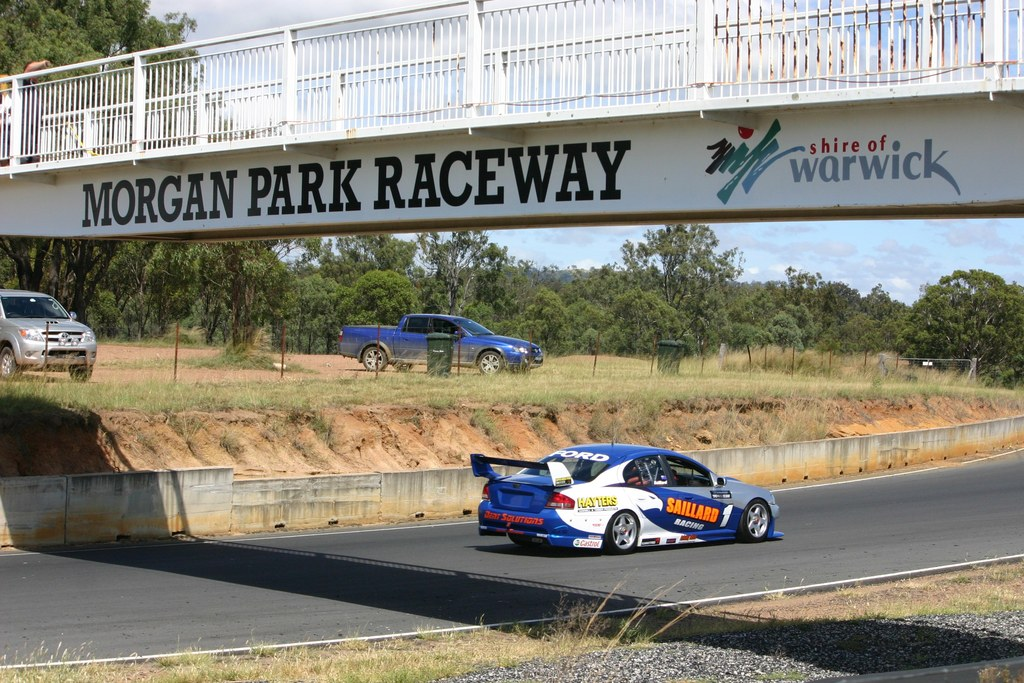Car: (471, 447, 785, 559), (0, 287, 97, 381)
